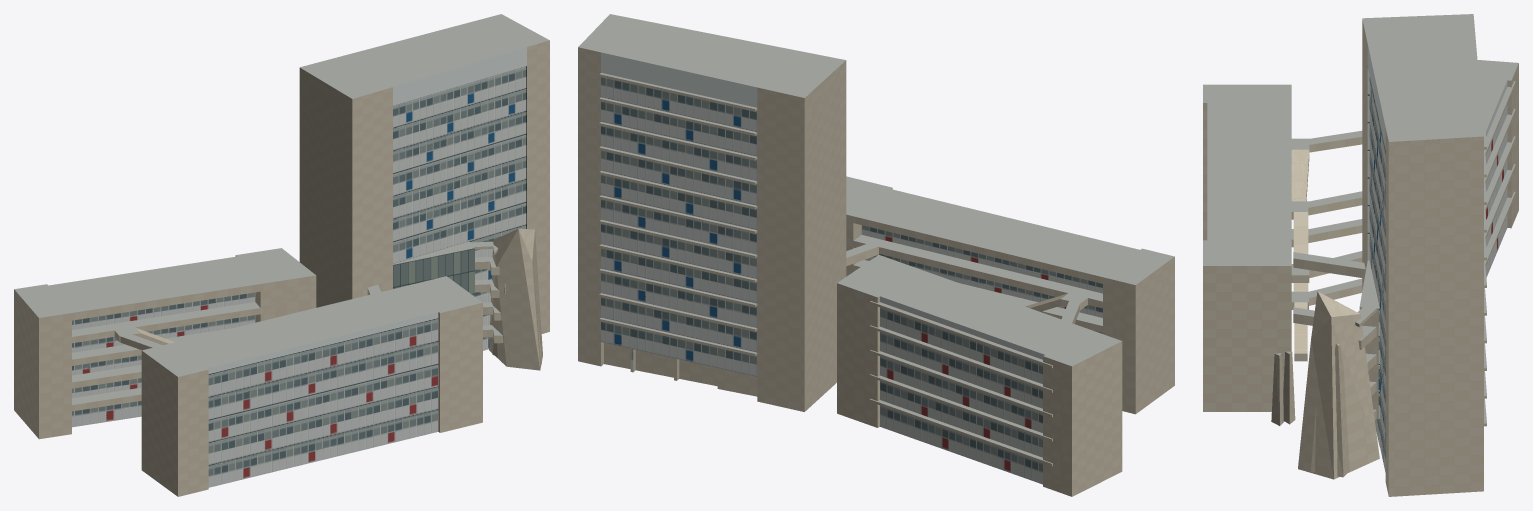
File: pabellon-n-v0.glb
3 views of the same model, side by side, from view 1: azimuth 30°, elevation 25°; view 2: azimuth 150°, elevation 25°; view 3: azimuth 270°, elevation 25° (orthographic). The views are drawn at different scales.
Parts seen in each view (by area): view 1: Pabellon N - SKP v0; view 2: Pabellon N - SKP v0; view 3: Pabellon N - SKP v0.
Part boxes in pixels (left/top/right/bottom): Pabellon N - SKP v0: left=14, top=14, right=549, bottom=496; Pabellon N - SKP v0: left=578, top=14, right=1174, bottom=496; Pabellon N - SKP v0: left=1203, top=14, right=1518, bottom=496.
Bounding box in the file's own units: 81.79 × 46.2 × 37.26.
Materials: 6 (4 with a texture image).
